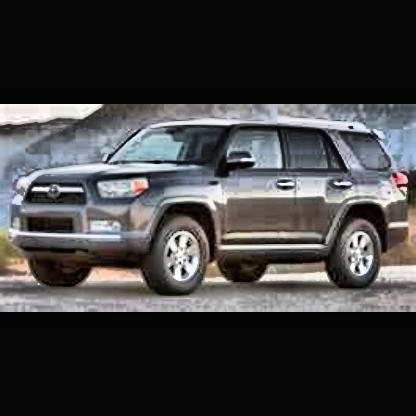Toyota 4Runner SUV 2012: (9, 117, 412, 302)
